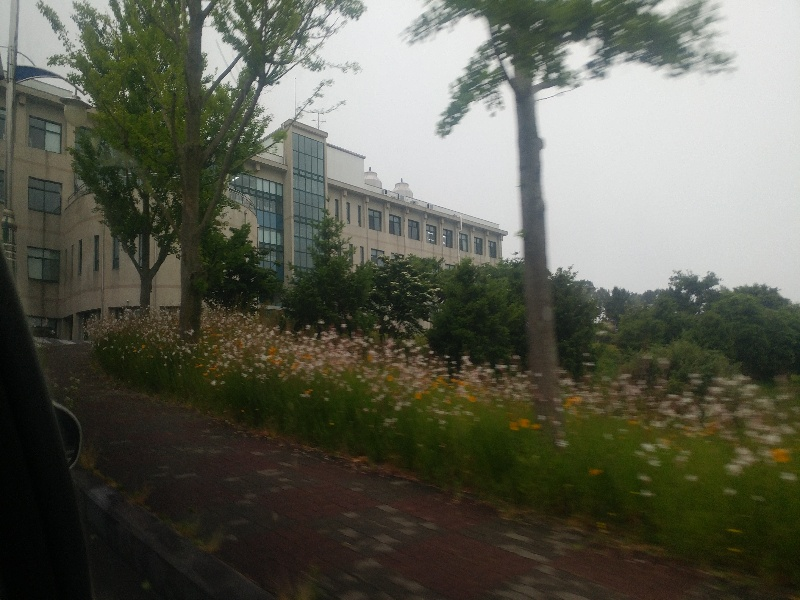College of Medicine: (4, 72, 507, 328), (21, 90, 503, 260)
